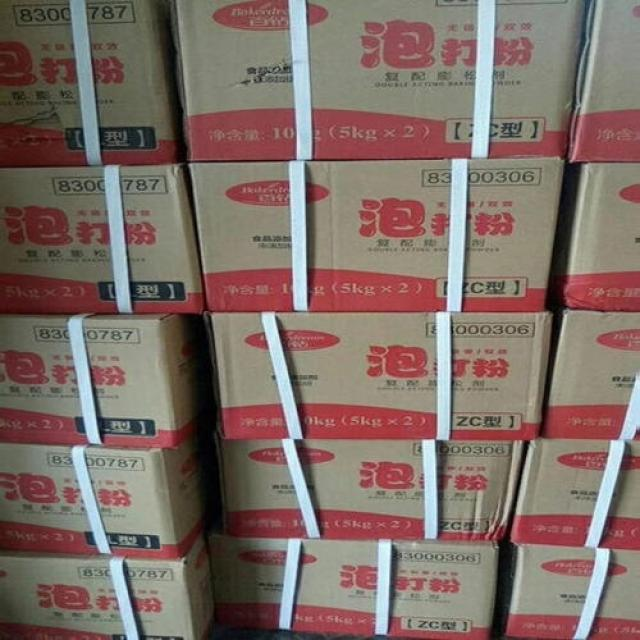box: (170, 1, 586, 161), (188, 157, 564, 314), (205, 311, 552, 440), (209, 515, 498, 639), (216, 438, 527, 543), (0, 164, 207, 315), (0, 0, 184, 168), (0, 425, 216, 561), (0, 315, 214, 451), (0, 529, 218, 639), (508, 439, 640, 550), (539, 303, 640, 442), (494, 545, 640, 639), (552, 161, 640, 312), (570, 1, 640, 164)
